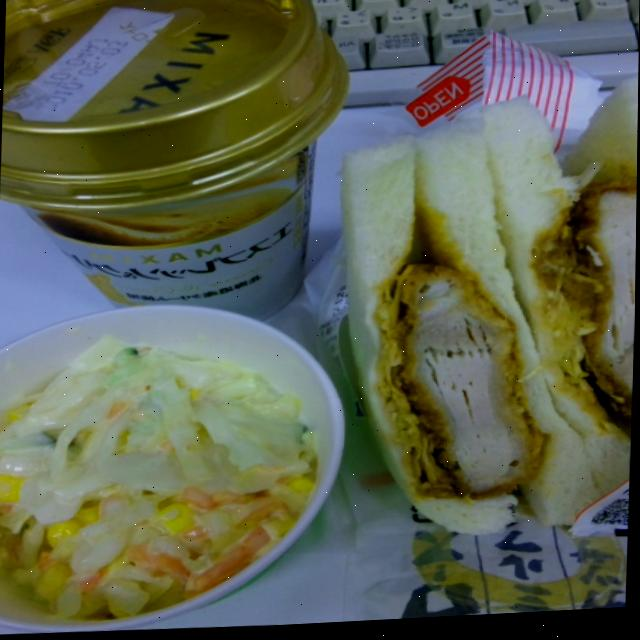三明治: (335, 83, 639, 579)
